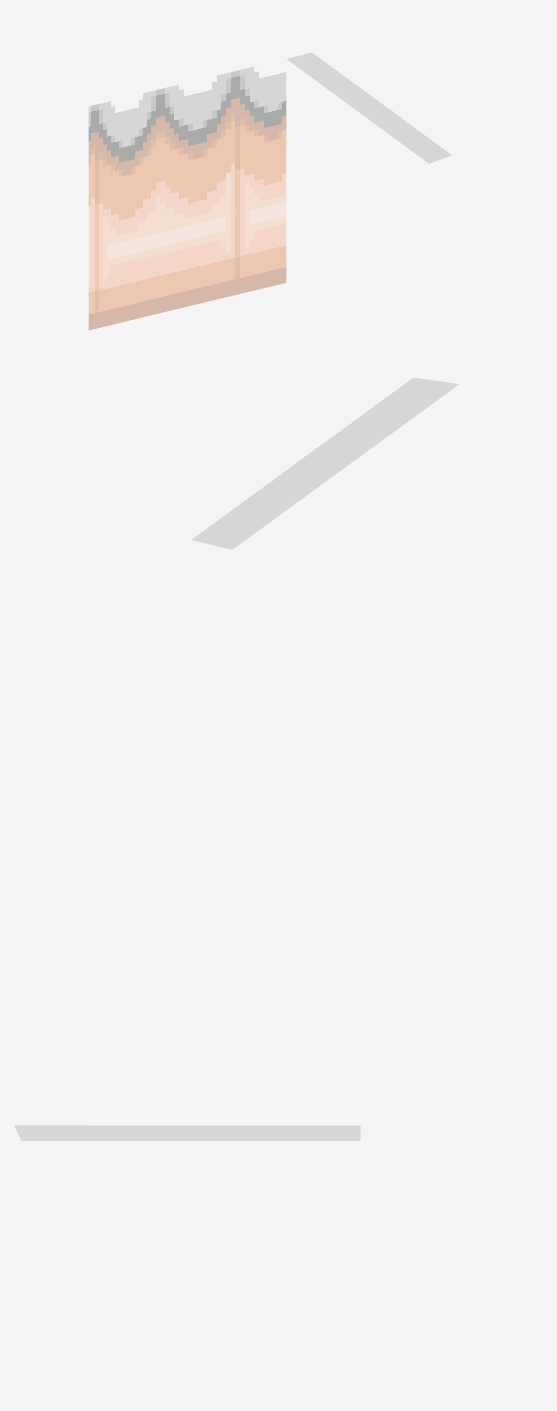
The picture shows the model from 3 angles, top to bottom: view 1: azimuth 30°, elevation 25°; view 2: azimuth 150°, elevation 25°; view 3: azimuth 270°, elevation 25°; orthographic projection. The views are drawn at different scales.
Bounding box in the file's own units: 2.56 × 1.64 × 2.9.
Materials: 1 (1 with a texture image).
